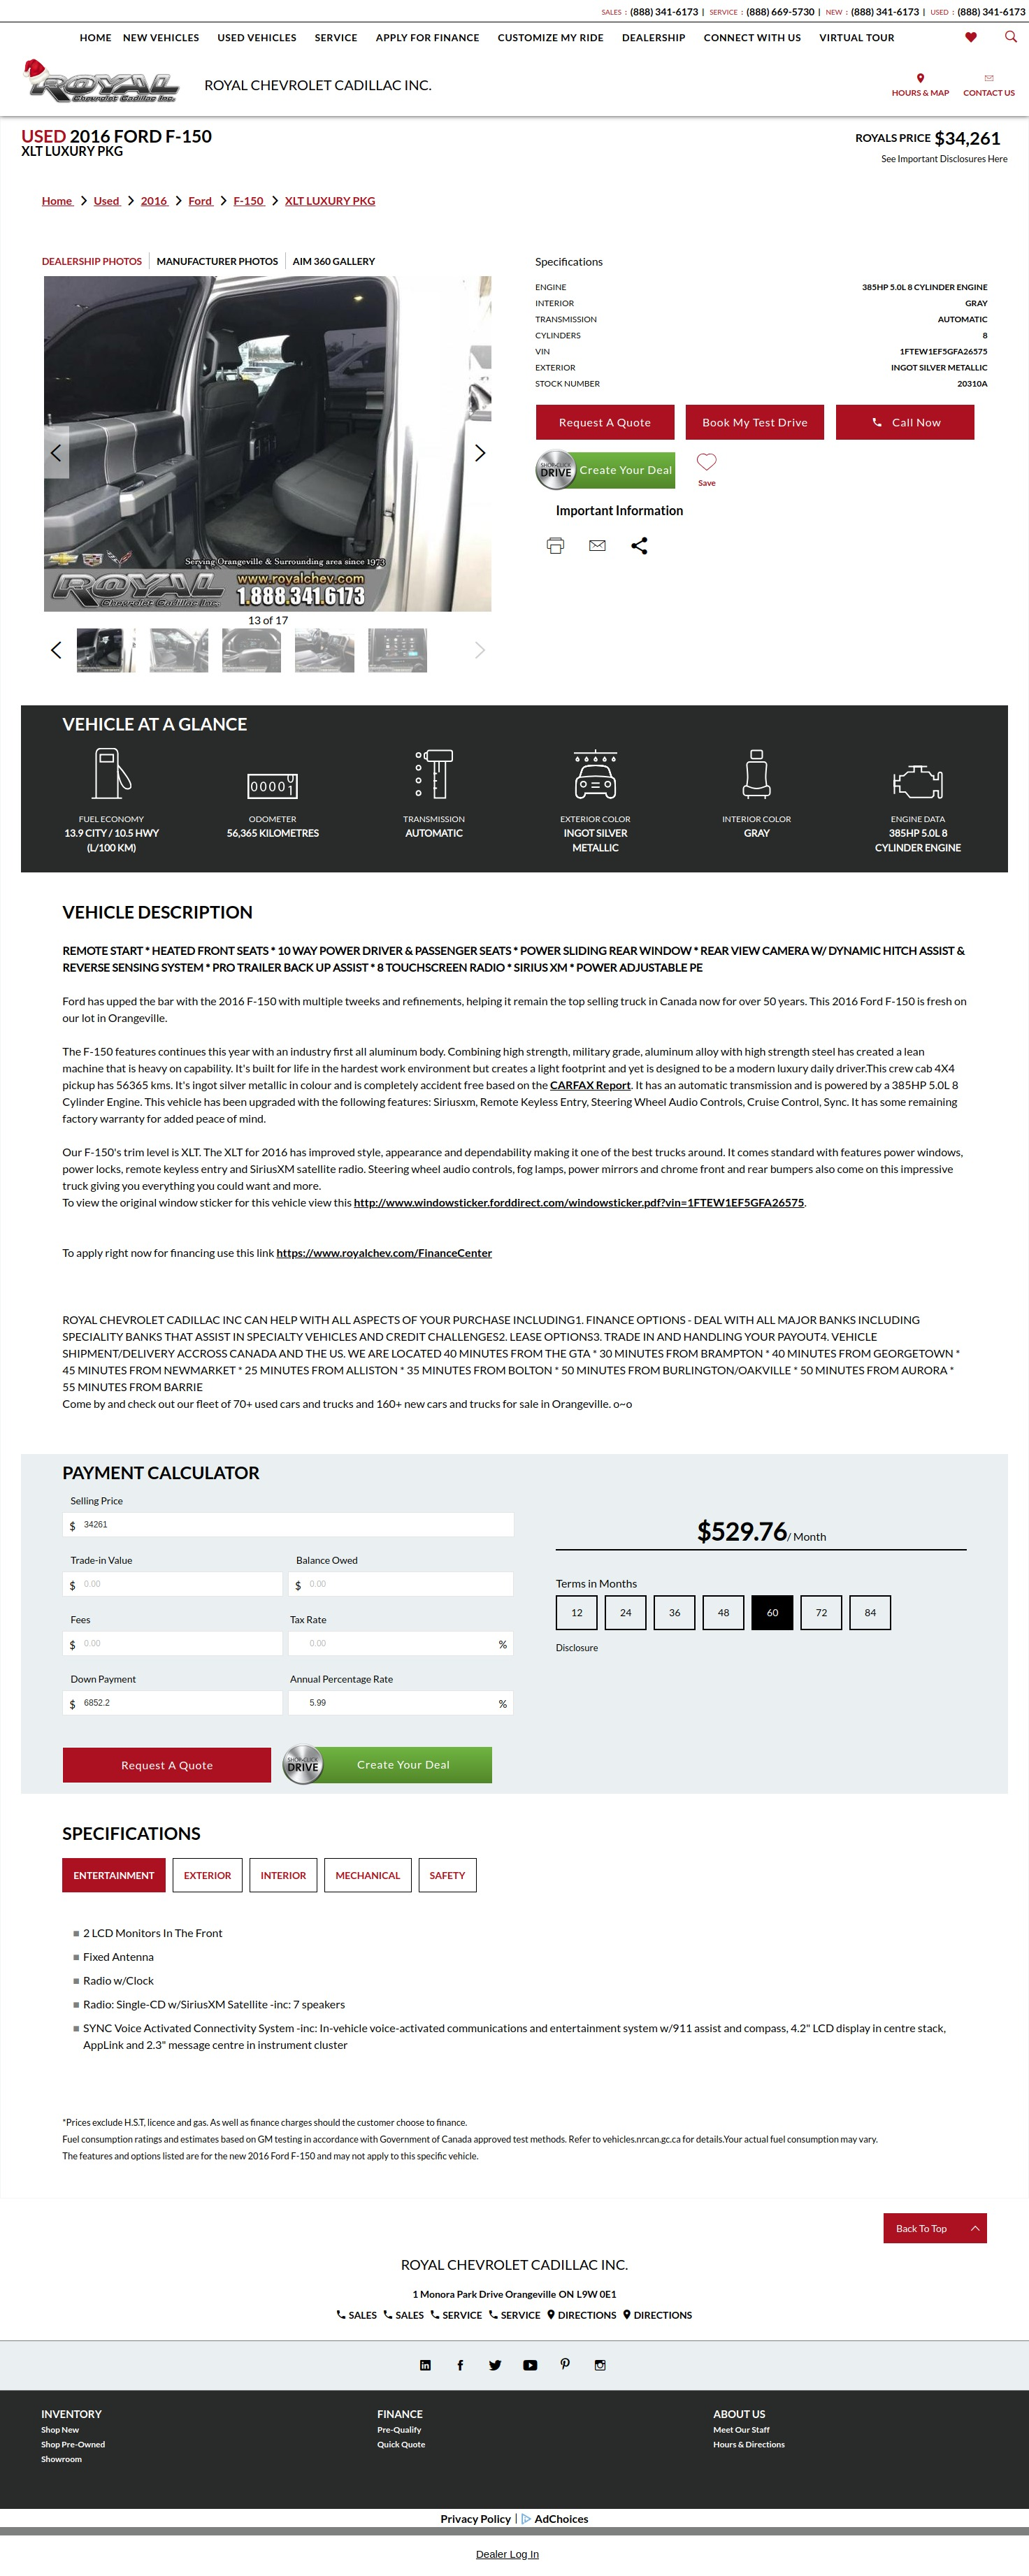car: (475, 642, 487, 659)
